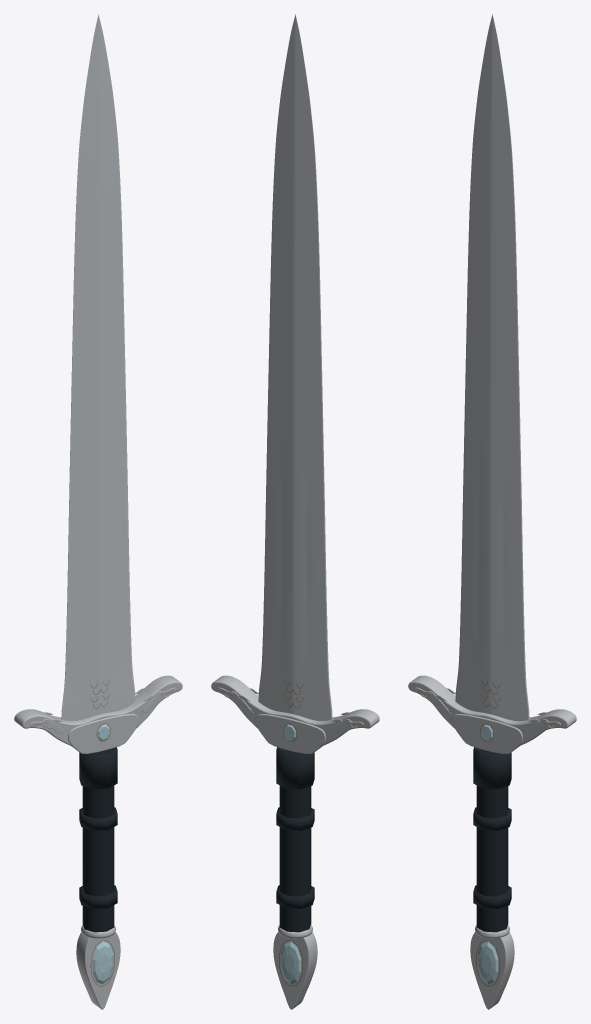
Rendered from SM_PlayerSword_A_DetailV03.fbx.
The picture shows the model from 3 angles, left to right: view 1: azimuth 30°, elevation 25°; view 2: azimuth 150°, elevation 25°; view 3: azimuth 330°, elevation 25°; orthographic projection.
Parts seen in each view (by area): view 1: SM_PlayerSword_A_DetailV03; view 2: SM_PlayerSword_A_DetailV03; view 3: SM_PlayerSword_A_DetailV03.
Part boxes in pixels (x1,y1,x2,y2): SM_PlayerSword_A_DetailV03: (14,14,182,1009); SM_PlayerSword_A_DetailV03: (211,14,379,1009); SM_PlayerSword_A_DetailV03: (408,14,576,1009).
Size of the model in its own units: 13.24 by 2.84 by 78.31.
